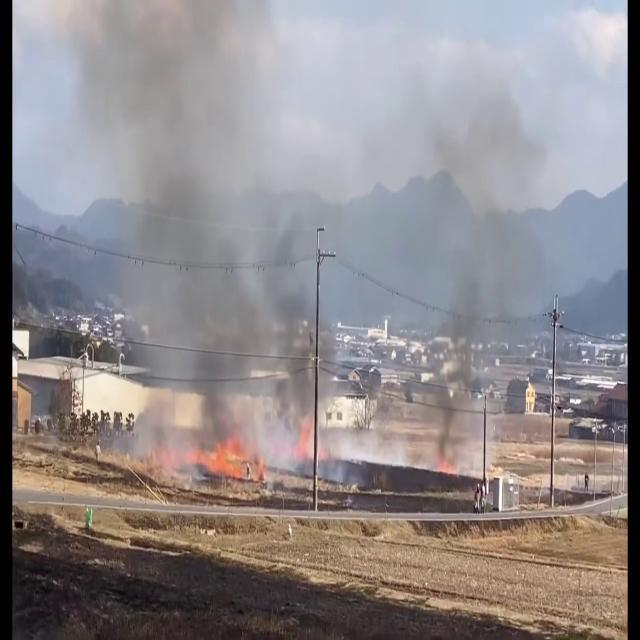Fire: (192, 434, 260, 482)
Smoke: (73, 2, 353, 472), (356, 2, 586, 423)
